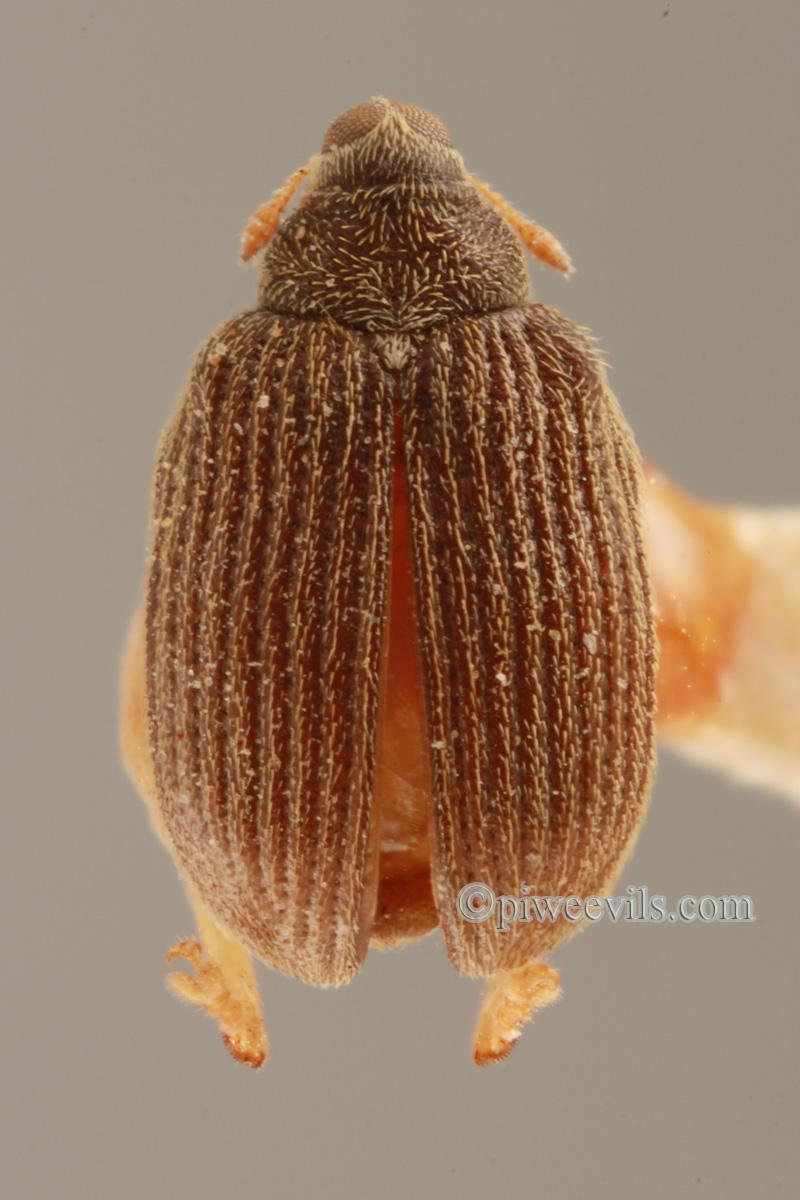weevils: (20, 10, 777, 1133)
